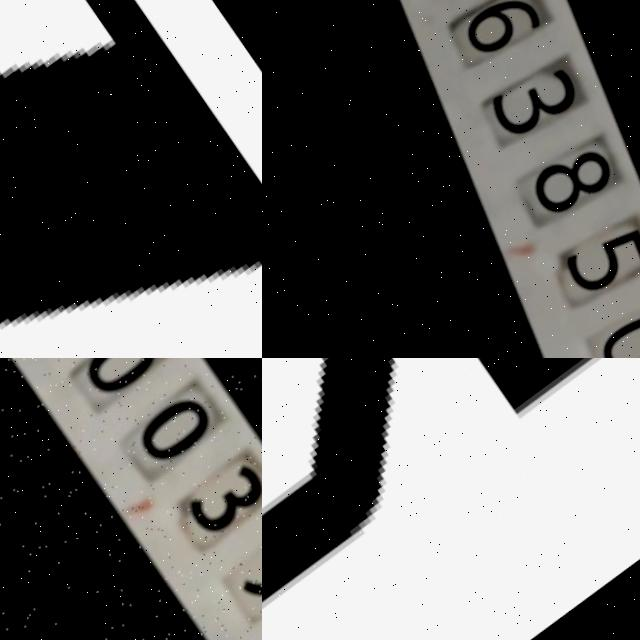0: (96, 358, 248, 510), (39, 358, 200, 446), (572, 283, 640, 358)
3: (146, 423, 262, 581), (466, 40, 598, 172)
5: (538, 199, 640, 328)
6: (438, 0, 561, 86)
8: (506, 122, 633, 249)
9: (197, 497, 262, 640)
S: (262, 358, 640, 640)
Z: (0, 0, 262, 358)
